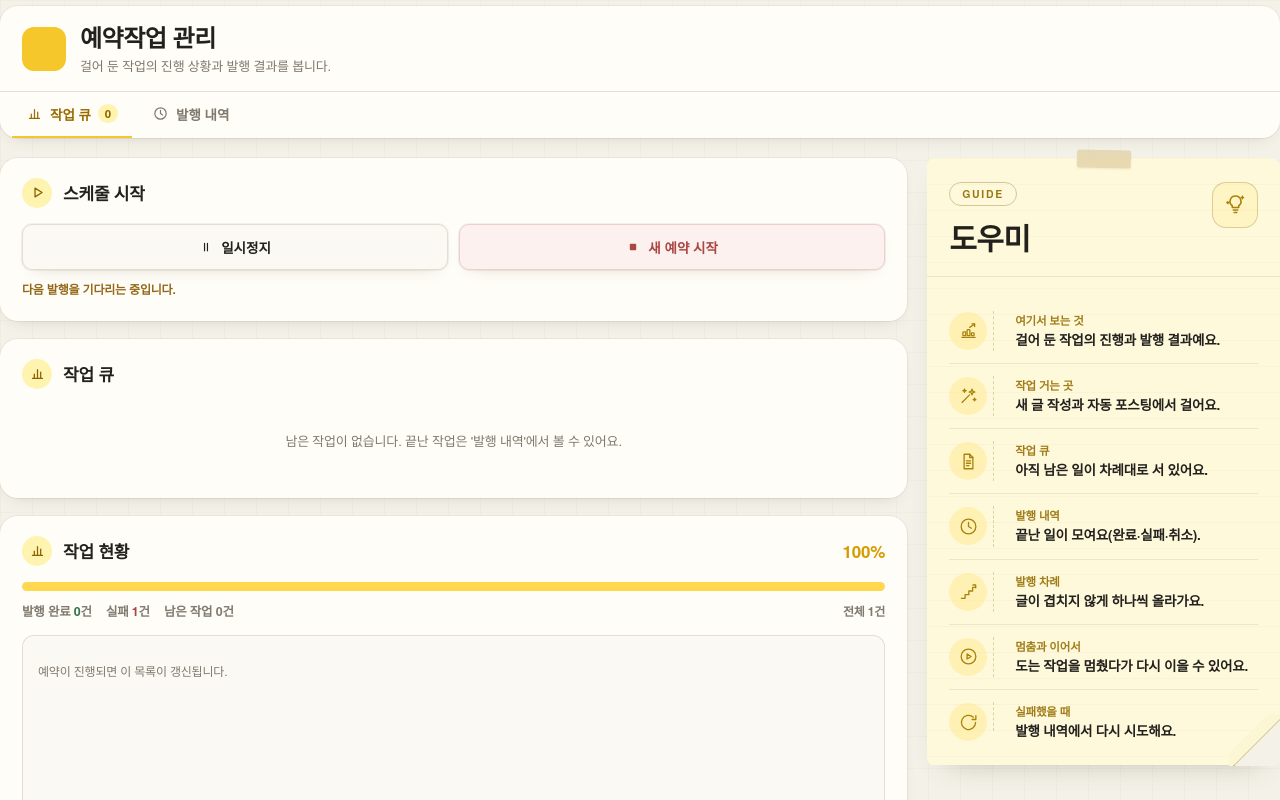
Test: 예약 포스팅 화면 › 작업이 실패여도 글이 발행돼 있으면 발행 내역이 그렇다고 말한다
Step 1. Click the tab "발행 내역" → coordinates (191, 115), box 138,92 -> 243,138
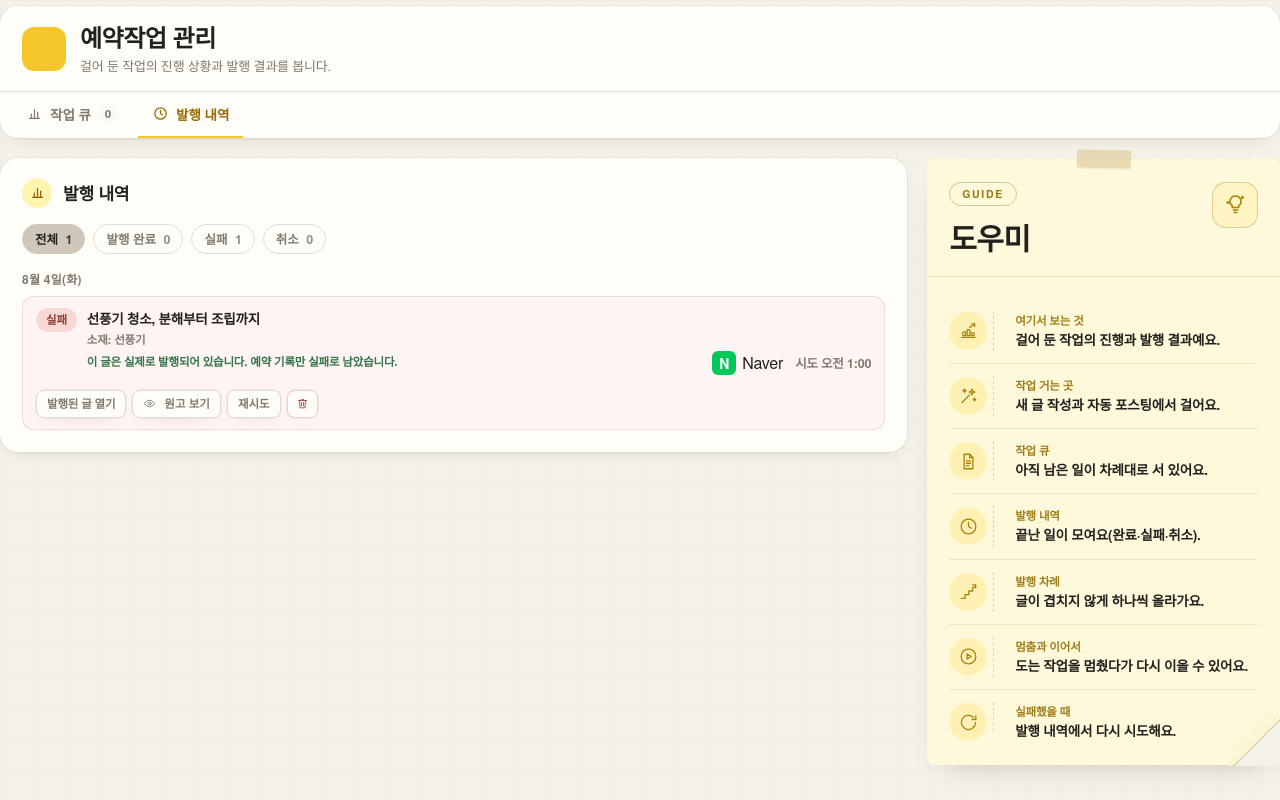
Expected: the text with class "history-article-note" shows "실제로 발행되어 있습니다", 87,353 -> 397,370
